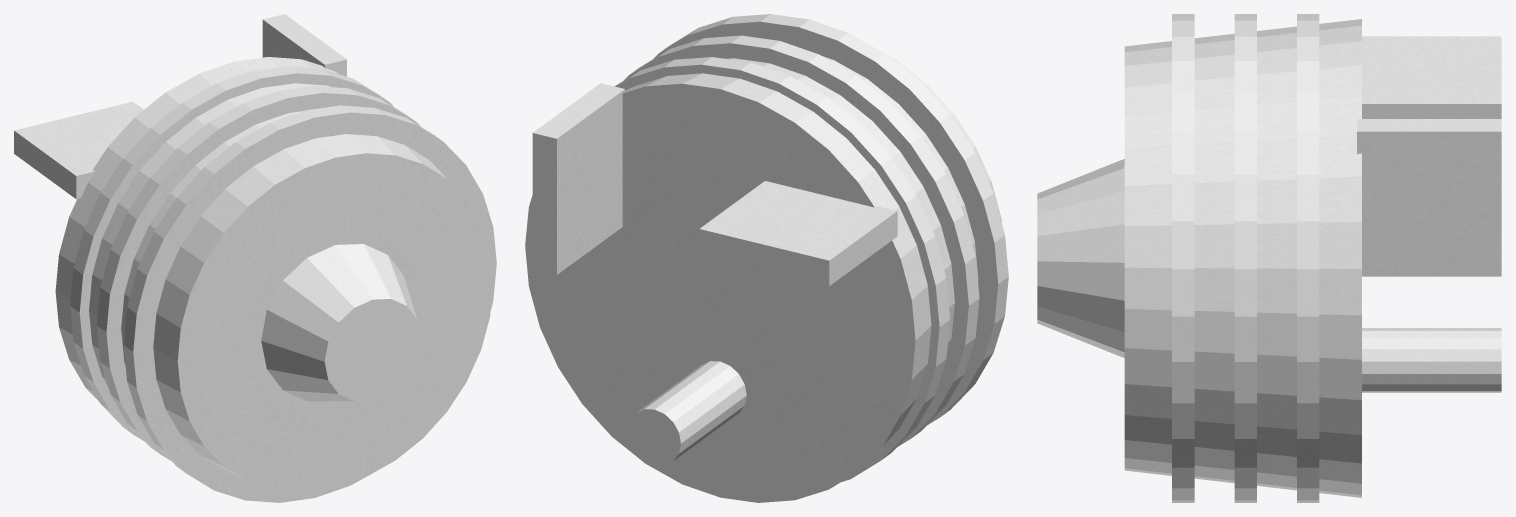
The model's file is nema520plug.obj.
The picture shows the model from 3 angles, left to right: view 1: azimuth 30°, elevation 25°; view 2: azimuth 150°, elevation 25°; view 3: azimuth 270°, elevation 25°; orthographic projection. The views are drawn at different scales.
Parts seen in each view (by area): view 1: Case, Grip, Blades; view 2: Case, Grip, Blades; view 3: Case, Blades, Grip.
Boxes of the visible parts, x1=… form: Case: x1=55, y1=57, x2=492, y2=491; Grip: x1=70, y1=66, x2=496, y2=502; Blades: x1=14, y1=14, x2=346, y2=199; Case: x1=525, y1=48, x2=1001, y2=502; Grip: x1=614, y1=14, x2=1008, y2=481; Blades: x1=532, y1=83, x2=897, y2=465; Case: x1=1037, y1=19, x2=1361, y2=497; Blades: x1=1357, y1=36, x2=1501, y2=392; Grip: x1=1172, y1=14, x2=1319, y2=502.
Size of the model in its own units: 0.196 by 0.196 by 0.186.
